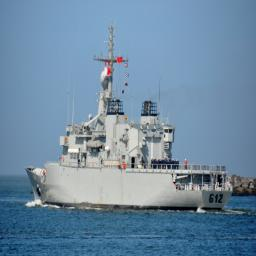Fragata: (24, 22, 234, 211)
